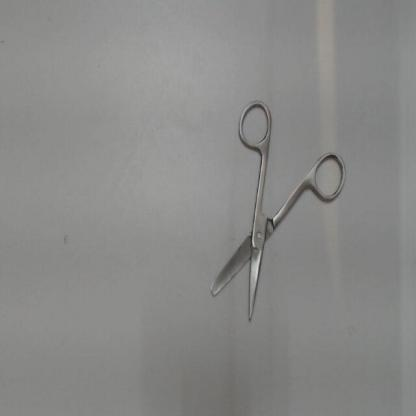Dressing Scissors: (198, 95, 354, 336)
